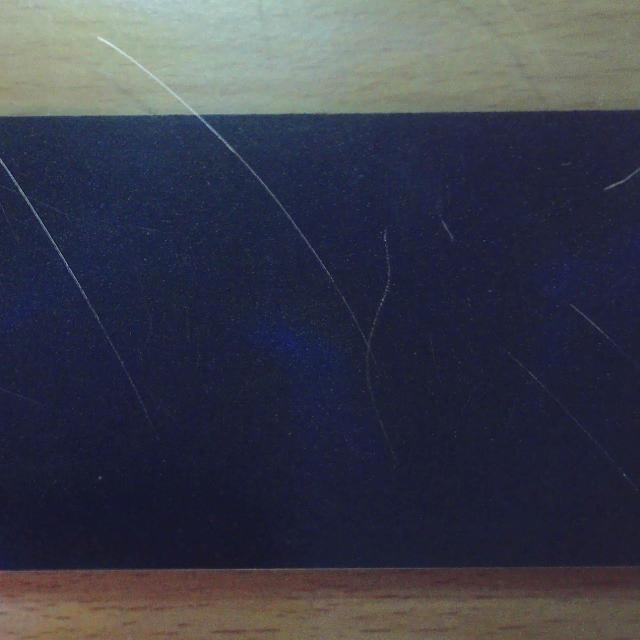defect: (0, 159, 165, 449), (192, 111, 374, 351), (501, 348, 639, 494), (363, 229, 395, 462), (569, 305, 620, 346), (603, 164, 640, 192), (439, 220, 457, 242)
